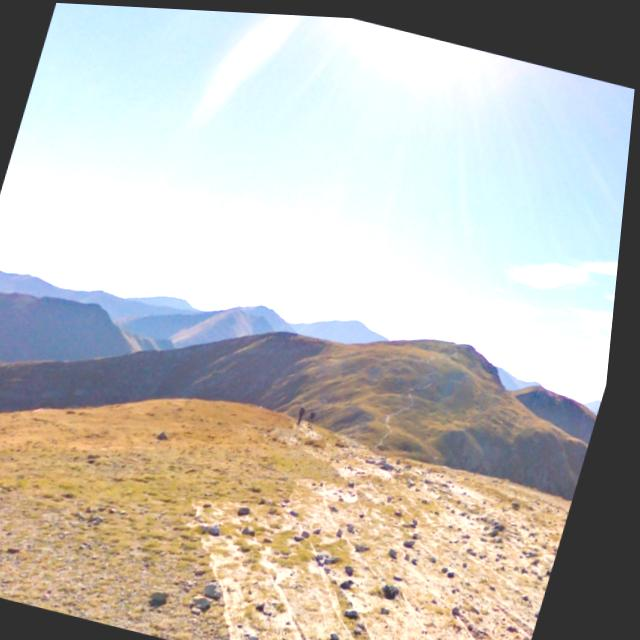Bystra: (302, 276, 413, 361)
Krzesanica: (319, 227, 611, 459)
Polska Tomanova: (0, 213, 201, 394)
Smreciny: (204, 280, 272, 341)
Velka Kamenista: (231, 269, 303, 341)
